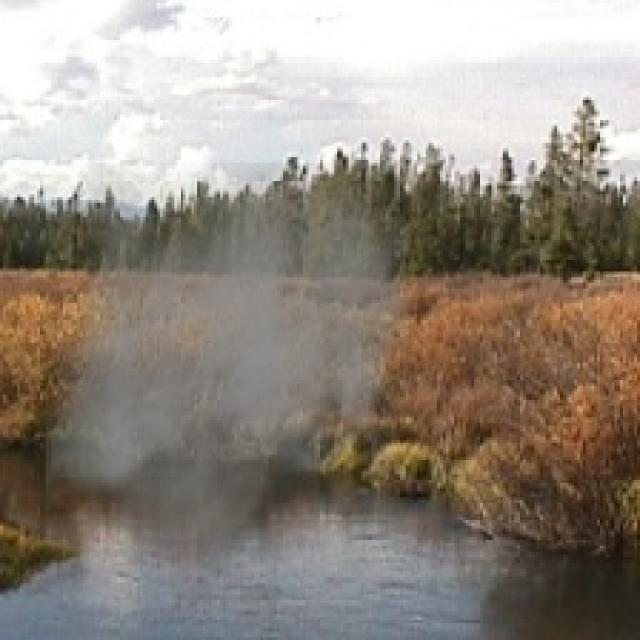Smoke: (46, 162, 412, 568)
